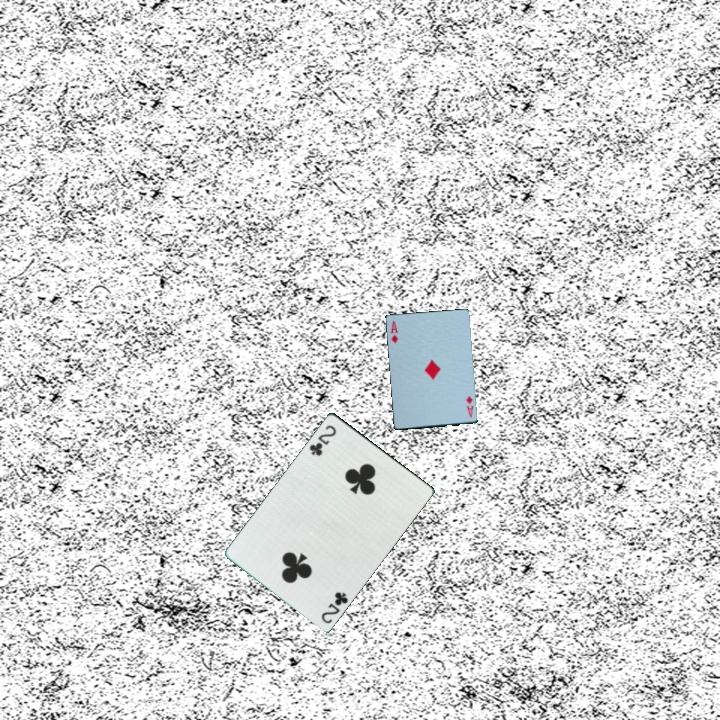2c: (305, 421, 339, 459), (318, 588, 351, 626)
Ad: (387, 317, 401, 346), (463, 392, 477, 420)
